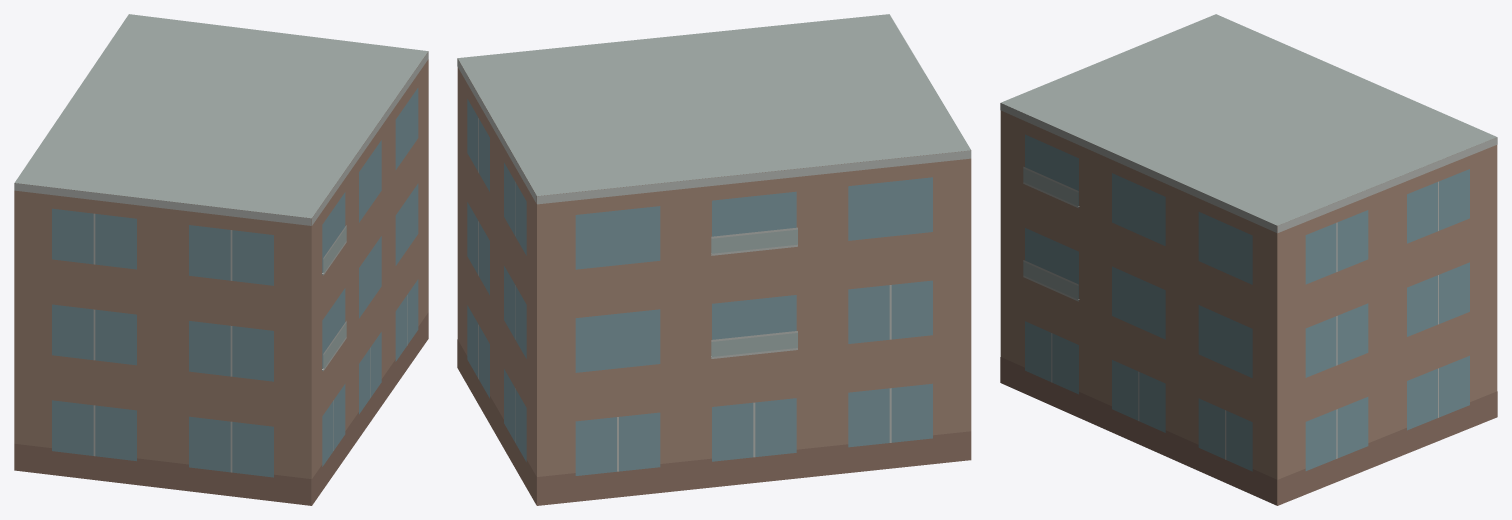
The model's file is survey-upis-32943739.glb.
3 views of the same model, side by side, from view 1: azimuth 30°, elevation 25°; view 2: azimuth 150°, elevation 25°; view 3: azimuth 270°, elevation 25° (orthographic). The views are drawn at different scales.
Visible parts, largest first — view 1: survey-upis-32943739.tmp; view 2: survey-upis-32943739.tmp; view 3: survey-upis-32943739.tmp.
Part boxes in pixels (x1,y1,x2,y2): survey-upis-32943739.tmp: (14,14,428,505); survey-upis-32943739.tmp: (457,14,971,505); survey-upis-32943739.tmp: (1000,14,1497,505).
Bounding box in the file's own units: 14.85 × 9.15 × 14.72.
